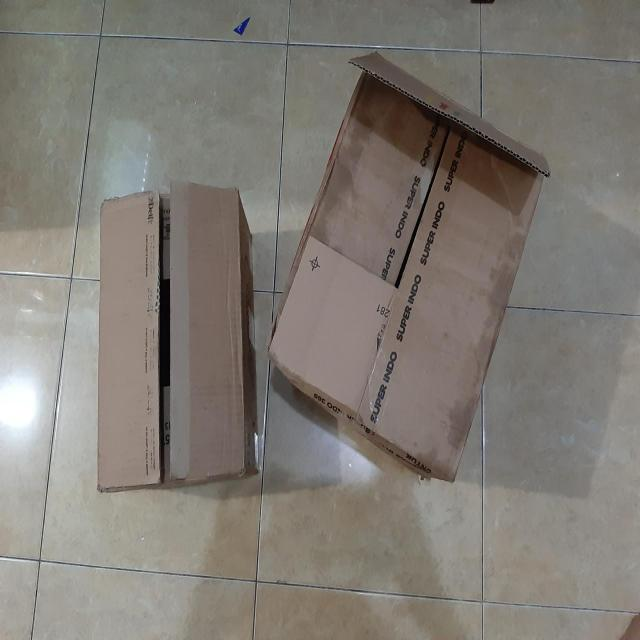Kardus: (266, 49, 550, 483), (96, 178, 260, 492)
